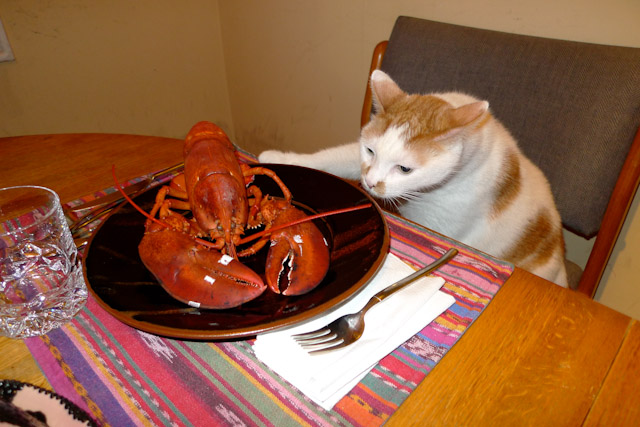cat: (251, 56, 598, 311)
